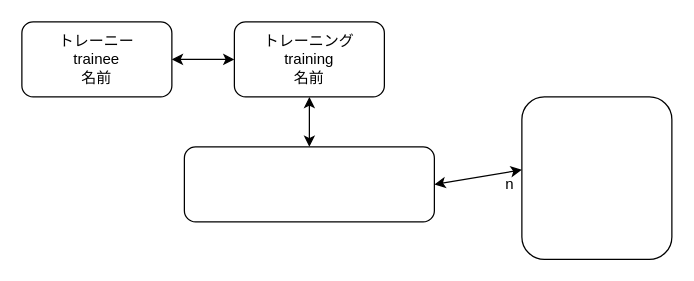
Image size: 694x281. Some labels were removed from this diagram. The shapes that lost their labels are listed below. From the top down, each one's centre as x and y in pixels, then its label:
At pixel 308 184: "トレーニングテンプレート training_template 名前".
At pixel 596 177: "筋肉 muscle name position pain total_pain size recovery_speed".
